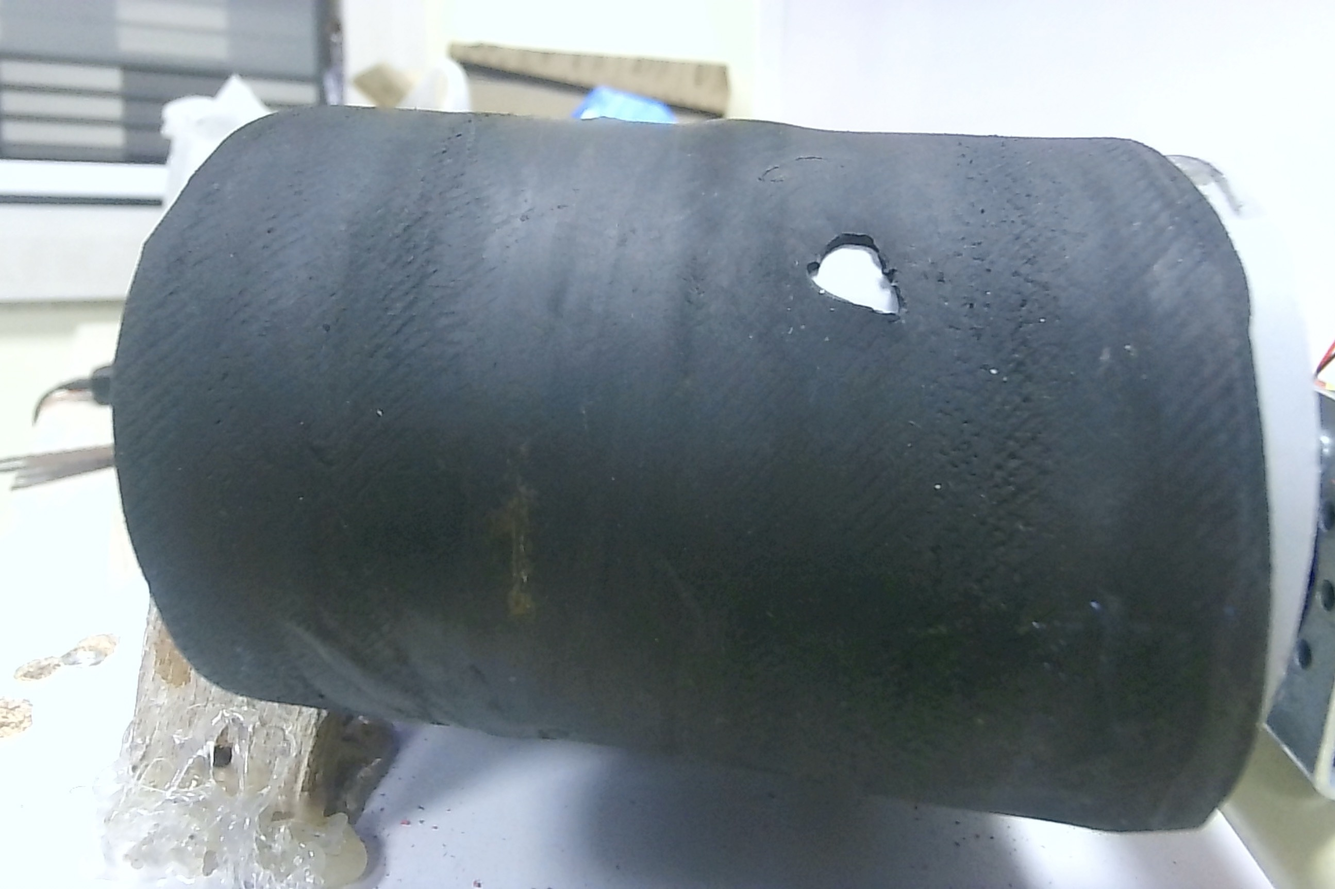hole: (797, 227, 905, 316)
